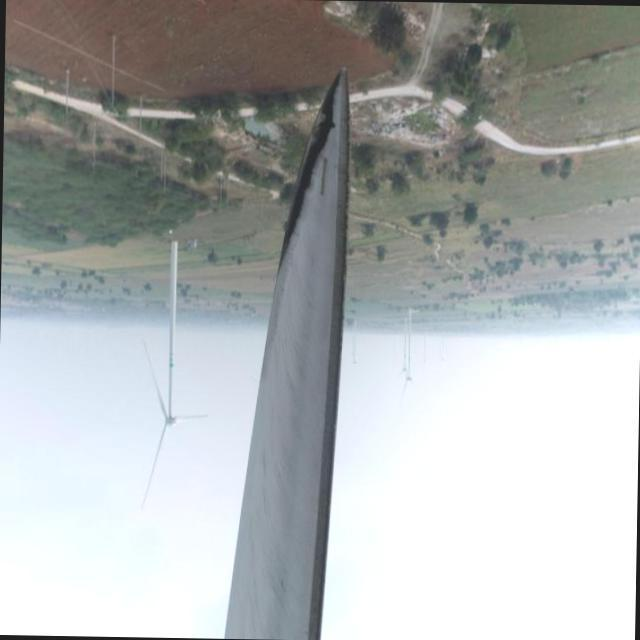Dirt: (250, 65, 345, 640)
Oil LEAKAGE: (279, 70, 339, 254)
Pin Hole: (318, 115, 338, 132)
